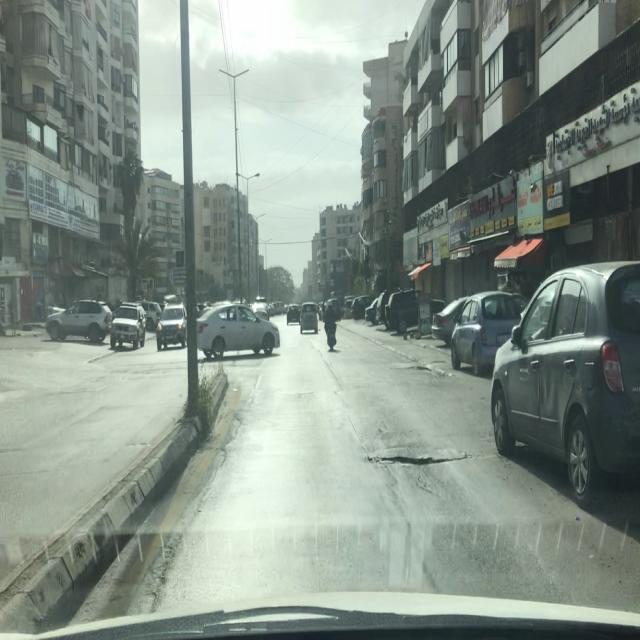Pothole: (360, 451, 472, 467)
